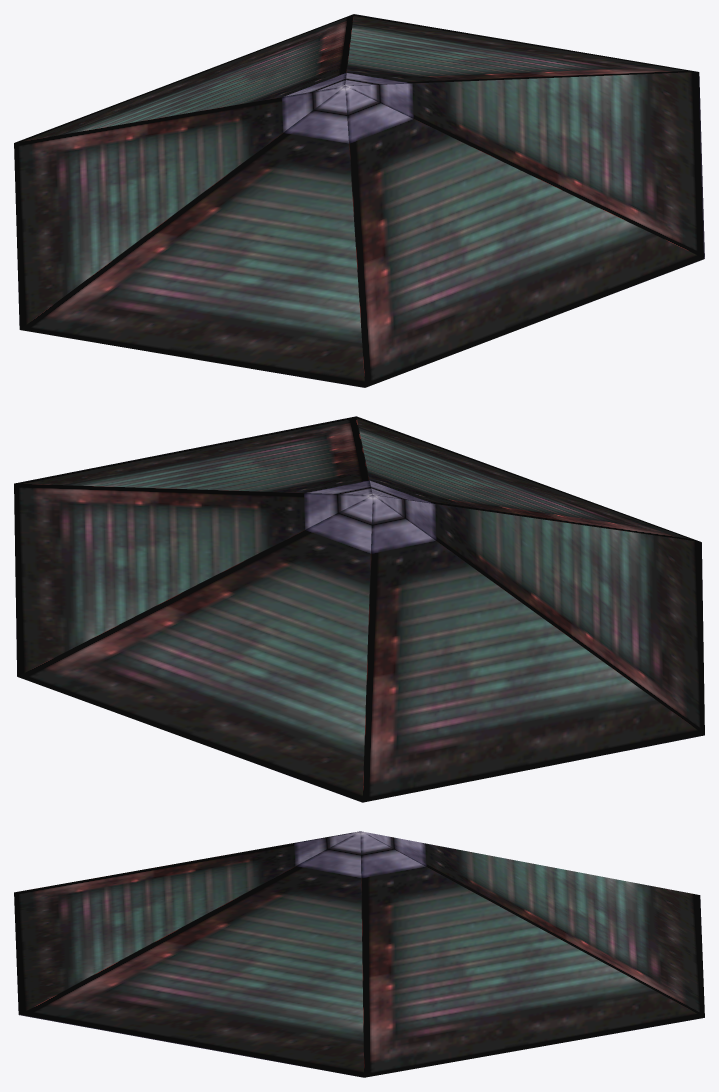
3 renders of one model, top to bottom at view 1: azimuth 30°, elevation 25°; view 2: azimuth 150°, elevation 25°; view 3: azimuth 270°, elevation 25°, orthographic.
Visible parts, largest first — view 1: base03; view 2: base03; view 3: base03.
Boxes of the visible parts, bbox=[...] form: base03: bbox=[14, 14, 704, 387]; base03: bbox=[14, 416, 704, 802]; base03: bbox=[14, 831, 704, 1077].
Bounding box in the file's own units: 591 × 133 × 519.
Materials: 1 (1 with a texture image).
